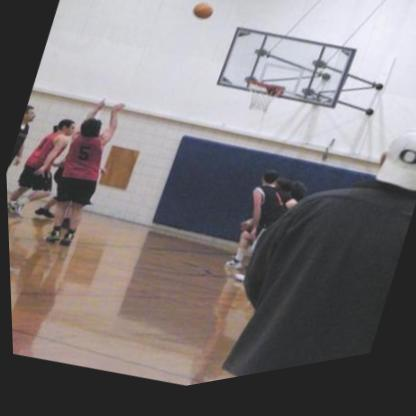basketball: (188, 4, 216, 32)
rim: (245, 83, 284, 108)
